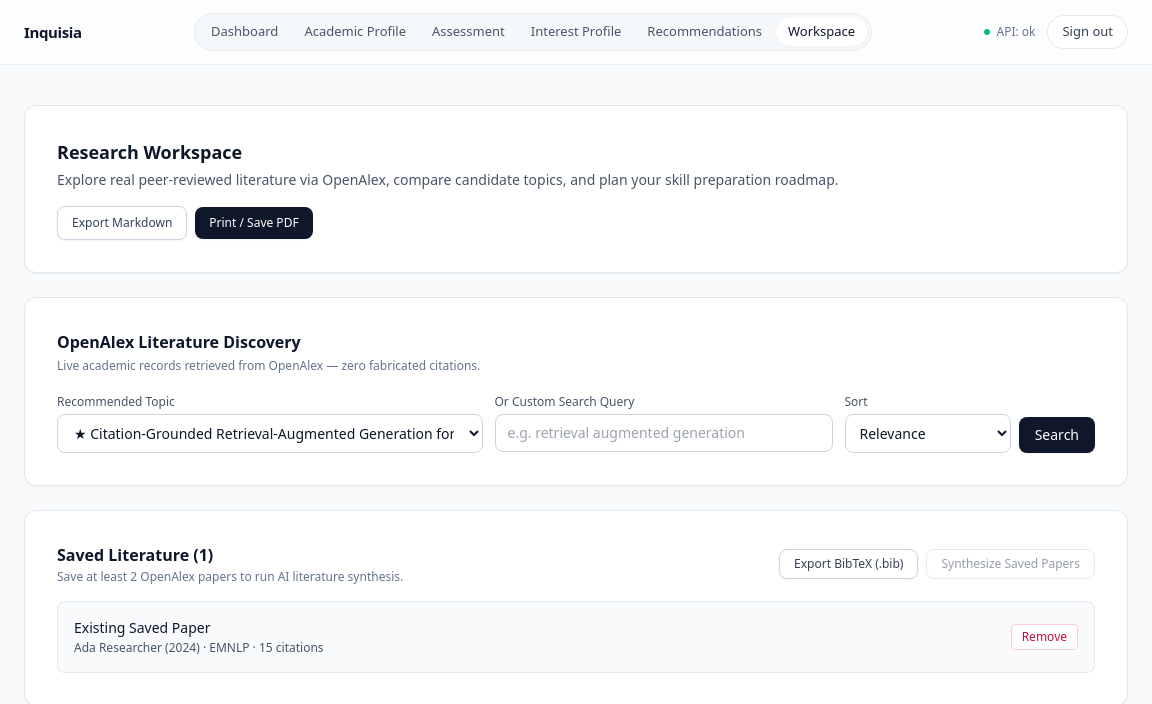
Test: WorkspacePage › searches OpenAlex papers, saves a paper, and renders comparison & roadmap
This screenshot has width=1152, height=704.
Click the button "Search". click: (1057, 435)
box: [1019,417,1095,453]
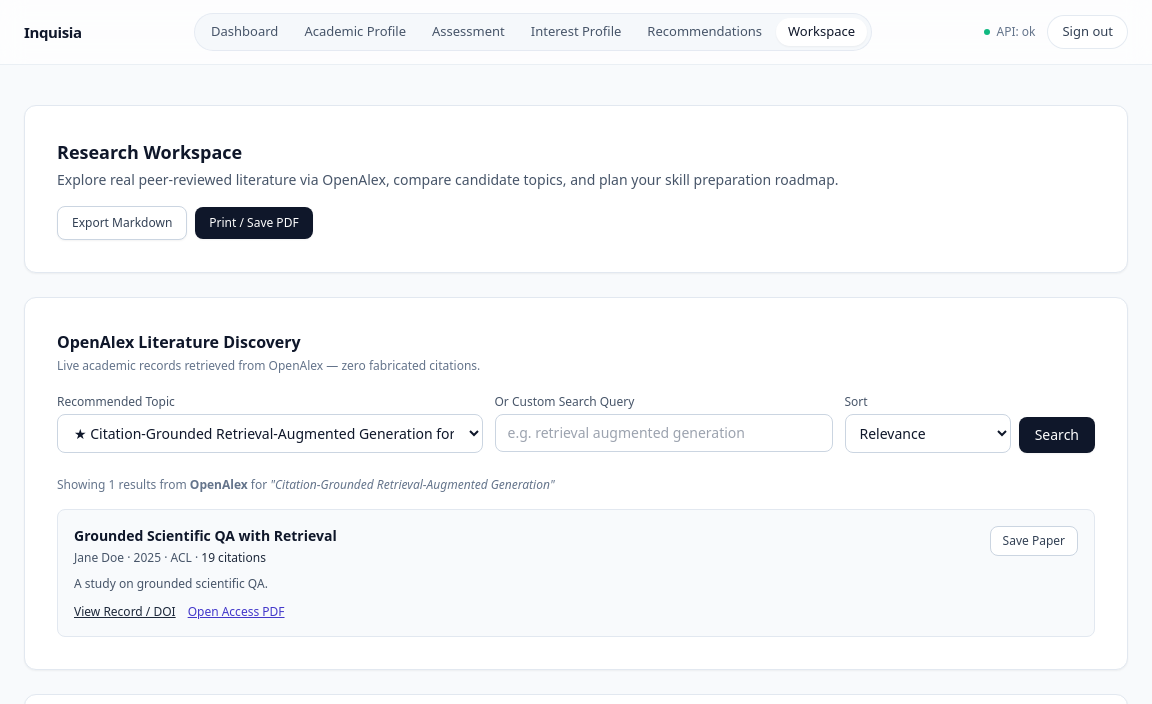
Expected: the heading "Grounded Scientific QA with Retrieval" is shown, [74,526,337,545]
Click the button "Save Paper". click: (1034, 541)
box: [990,526,1078,556]
(page scrolled)
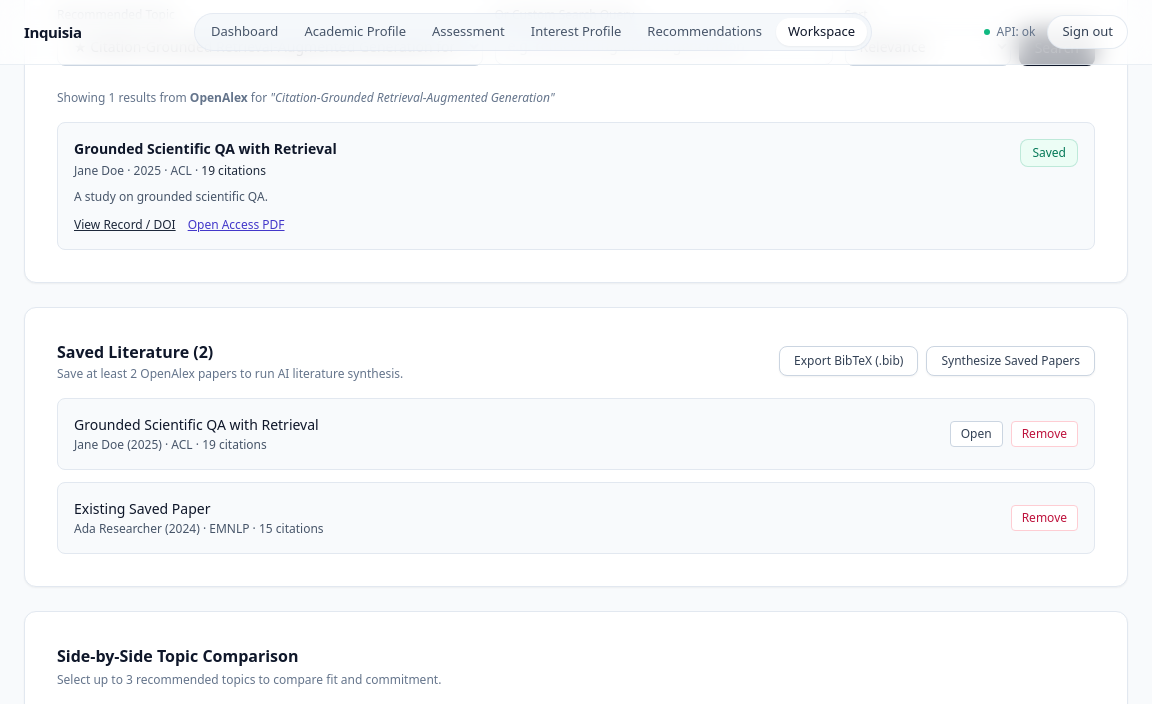
Expected: the heading "Saved Literature (2)" is shown, [57,340,213,362]
Click the button "Synthesize Saved Papers". click: (1011, 360)
box: [926,346,1095,376]
(page scrolled)
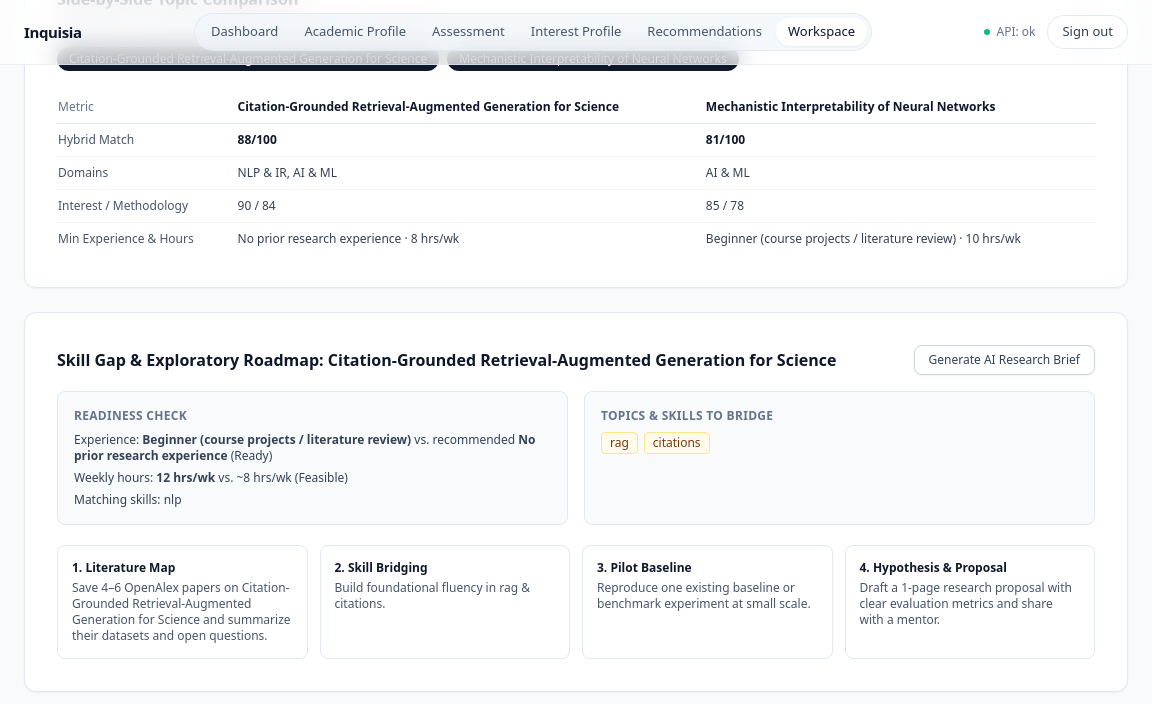
Click the button "Generate AI Research Brief". click: (1004, 360)
box: [914,345,1095,375]
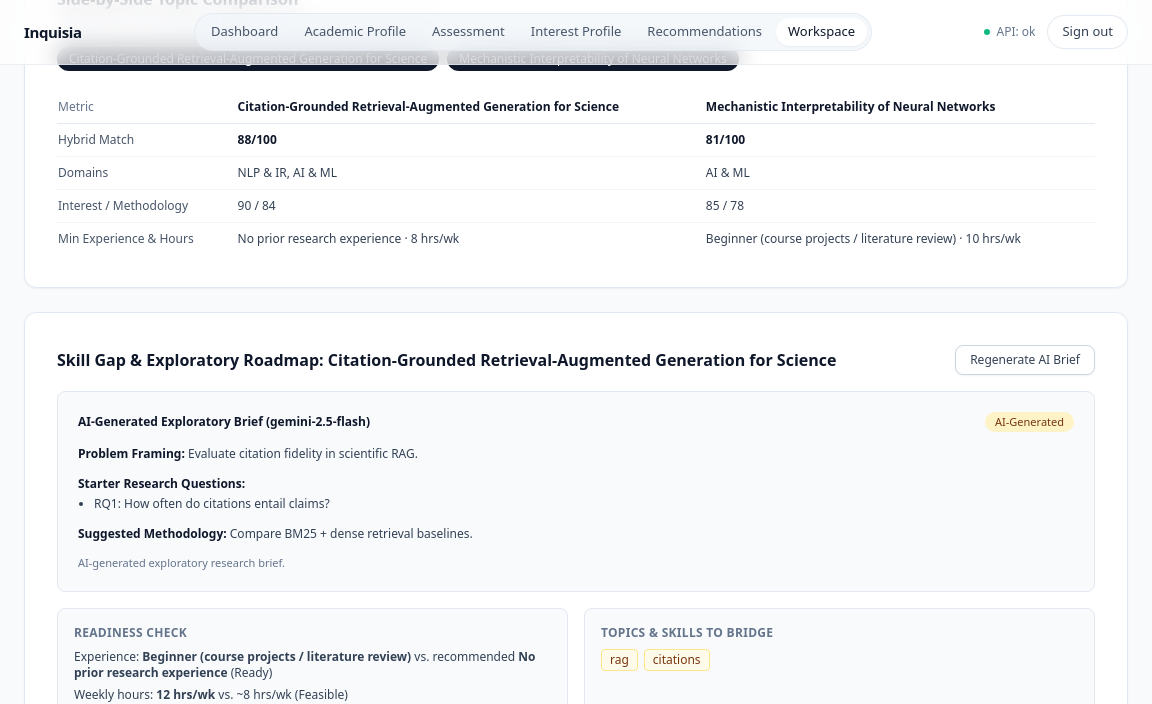
Expected: the list item "RQ1: How often do citations entail claims?" is shown, [94,494,330,512]
